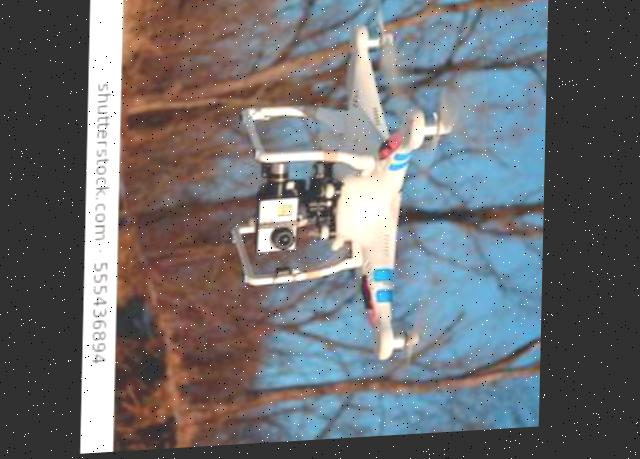drone: (218, 0, 472, 411)
